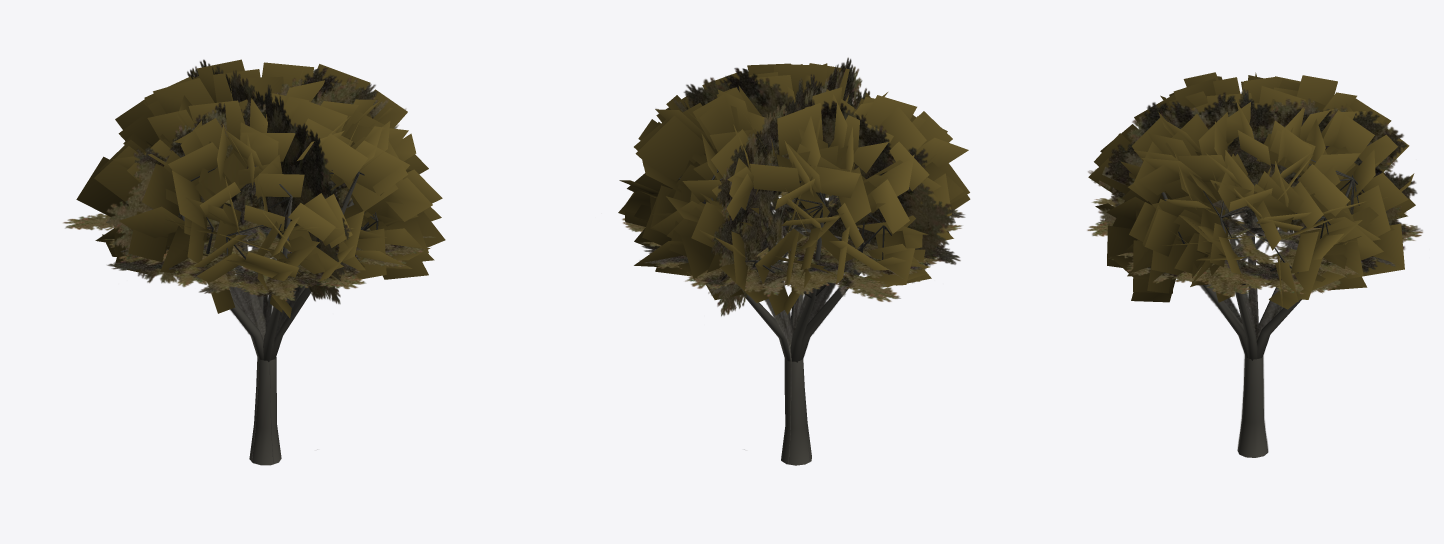
Rendered from veg.tree.keyaki.mo.glb.
3 renders of one model, left to right at view 1: azimuth 30°, elevation 25°; view 2: azimuth 150°, elevation 25°; view 3: azimuth 270°, elevation 25°, orthographic. The views are drawn at different scales.
Visible parts, largest first — view 1: LOD0, IMP; view 2: LOD0, IMP; view 3: LOD0, IMP.
Boxes of the visible parts, left/top/right/bottom form: LOD0: left=76, top=59, right=445, bottom=465; IMP: left=63, top=59, right=436, bottom=462; LOD0: left=618, top=63, right=970, bottom=465; IMP: left=622, top=57, right=965, bottom=462; LOD0: left=1088, top=72, right=1415, bottom=457; IMP: left=1087, top=89, right=1422, bottom=451.
Size of what is drawn, in the model's own units: 9.58 by 10.95 by 9.58.
3 materials, 1 textured.
